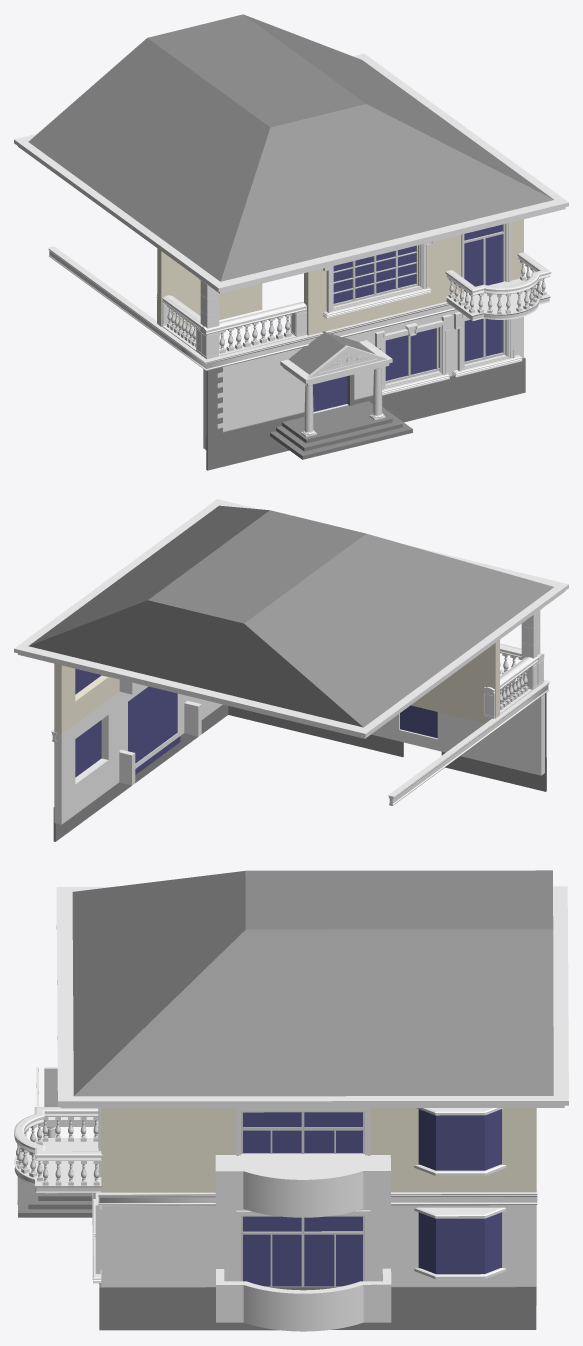
3 renders of one model, top to bottom at view 1: azimuth 30°, elevation 25°; view 2: azimuth 150°, elevation 25°; view 3: azimuth 270°, elevation 25°, orthographic. The views are drawn at different scales.
Parts seen in each view (by area): view 1: Box11, Box07, Box09, Box01, Loft01, Box18, Rectangle06, Box16, Box19, Box02, 0_05, Rectangle10 (+14 smaller); view 2: Box11, Box09, Rectangle05, Box01, Box16, Box15, Rectangle09, Loft01, Box20, Box18, Box19, Rectangle04 (+7 smaller); view 3: Box11, Box20, Box15, Box09, 0_03, Box08, Box05, 0_01, Rectangle09, Rectangle05, Rectangle01, Rectangle08 (+16 smaller).
Part boxes in pixels (x1,y1,x2,y2): Box11: (28, 14, 553, 313); Box07: (313, 224, 502, 411); Box09: (14, 53, 568, 291); Box01: (203, 347, 305, 449); Loft01: (48, 246, 456, 370); Box18: (354, 358, 524, 422); Rectangle06: (304, 238, 444, 335); Box16: (157, 248, 262, 327); Box19: (206, 412, 304, 470); Box02: (282, 401, 392, 443); 0_05: (446, 278, 550, 320); Rectangle10: (445, 219, 523, 301); Box11: (28, 505, 553, 727); Box09: (14, 499, 568, 737); Rectangle05: (54, 692, 119, 824); Box01: (440, 681, 544, 775); Box16: (411, 640, 499, 723); Box15: (128, 686, 180, 774); Rectangle09: (54, 663, 119, 734); Loft01: (51, 669, 550, 805); Box20: (53, 704, 228, 841); Box18: (228, 706, 403, 757); Box19: (441, 752, 546, 791); Rectangle04: (119, 685, 187, 768); Box11: (72, 870, 553, 1096); Box20: (99, 1286, 536, 1330); Box15: (243, 1112, 362, 1286); Box09: (56, 886, 568, 1106); 0_03: (215, 1153, 390, 1217); Box08: (112, 1108, 215, 1192); Box05: (112, 1205, 214, 1286); 0_01: (216, 1268, 391, 1331); Rectangle09: (391, 1108, 536, 1192); Rectangle05: (391, 1205, 536, 1305); Rectangle01: (418, 1212, 501, 1274); Rectangle08: (418, 1109, 501, 1170).
Bounding box in the file's own units: 15169 × 10760 × 15962.
